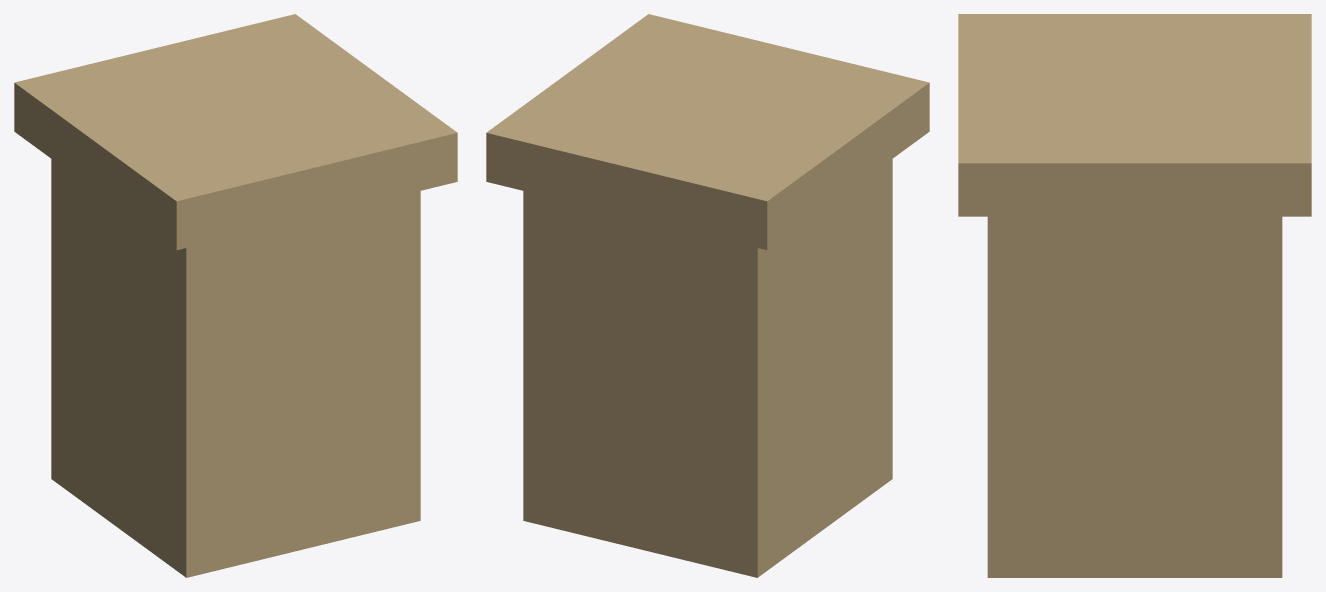
Rendered from fermenter.glb.
3 renders of one model, left to right at view 1: azimuth 30°, elevation 25°; view 2: azimuth 150°, elevation 25°; view 3: azimuth 270°, elevation 25°, orthographic. The views are drawn at different scales.
Size of the model in its own units: 2.4 by 3.2 by 2.4.
